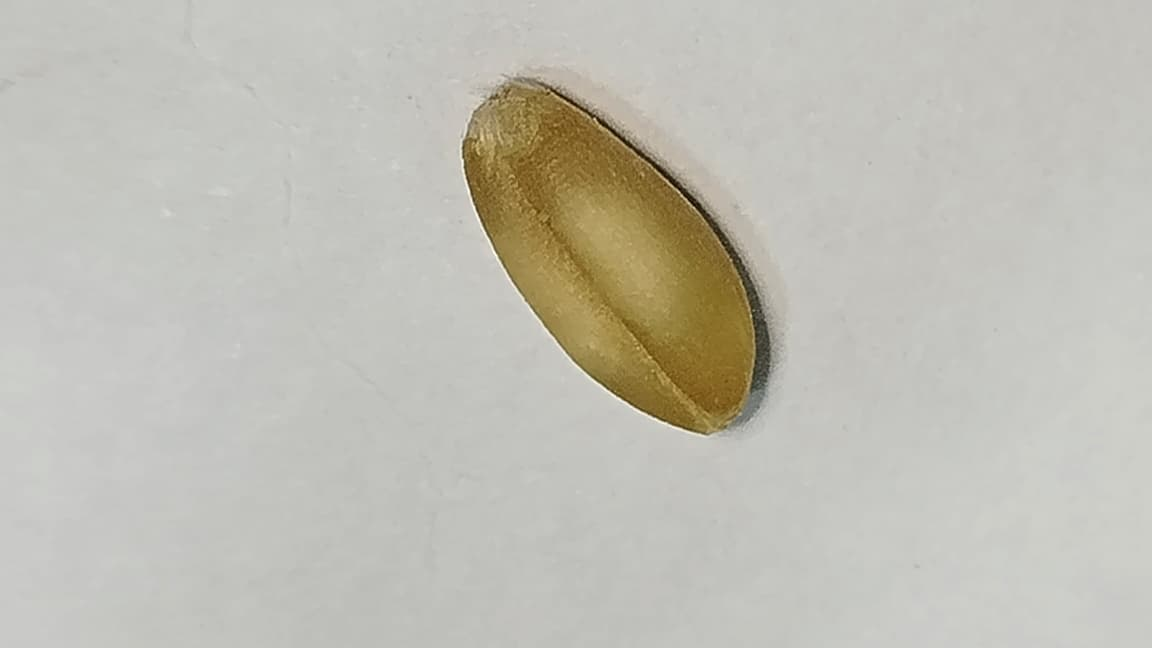healthy: (463, 82, 754, 432)
